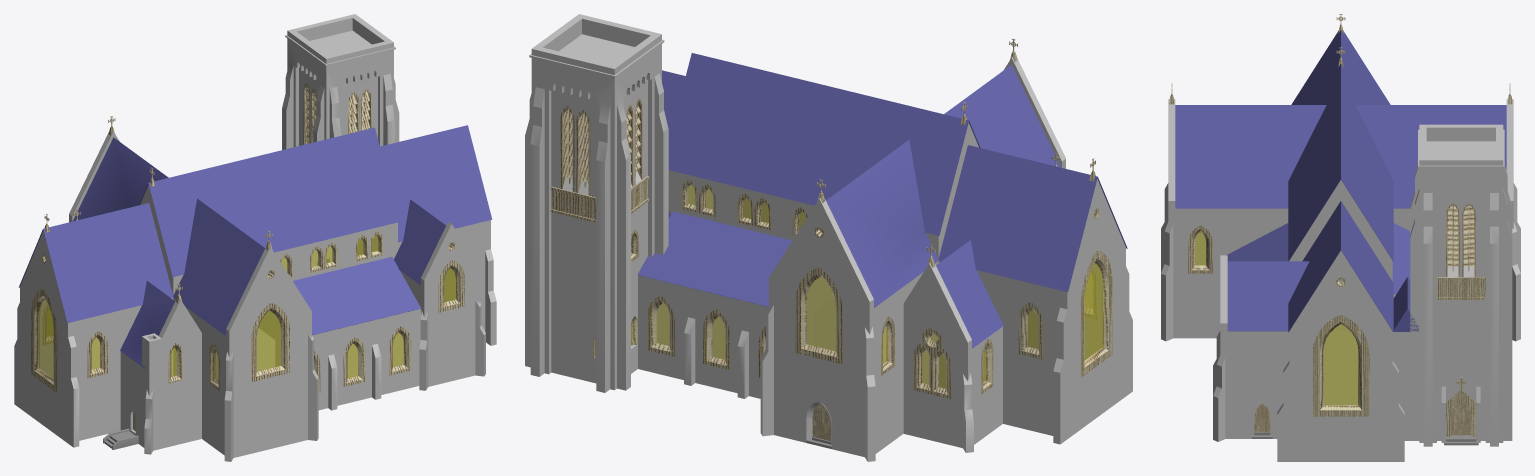
Rendered from Church.FBX.
3 renders of one model, left to right at view 1: azimuth 30°, elevation 25°; view 2: azimuth 150°, elevation 25°; view 3: azimuth 270°, elevation 25°, orthographic. The views are drawn at different scales.
Visible parts, largest first — view 1: ROOF, WALLS, TOWER, WINDOWS, PANES, FLOOR, MISC; view 2: ROOF, WALLS, TOWER, WINDOWS, PANES, FLOOR, MISC; view 3: ROOF, WALLS, TOWER, WINDOWS, PANES, FLOOR, MISC, DOORS.
Boxes of the visible parts, x1,y1,x2,y2 form: ROOF: (18, 125, 492, 368); WALLS: (14, 131, 496, 461); TOWER: (282, 14, 399, 265); WINDOWS: (31, 83, 464, 393); PANES: (38, 235, 455, 381); FLOOR: (103, 328, 403, 449); MISC: (304, 88, 370, 143); ROOF: (637, 53, 1127, 348); WALLS: (638, 57, 1132, 461); TOWER: (525, 14, 668, 392); WINDOWS: (550, 98, 1112, 399); PANES: (595, 184, 1102, 388); FLOOR: (658, 298, 885, 448); MISC: (562, 104, 641, 187); ROOF: (1175, 30, 1506, 332); WALLS: (1161, 99, 1520, 461); TOWER: (1410, 124, 1512, 446); WINDOWS: (1188, 203, 1485, 436); PANES: (1195, 231, 1358, 405); FLOOR: (1252, 294, 1478, 445); MISC: (1447, 205, 1474, 271); DOORS: (1254, 401, 1471, 435).
Size of the model in its own units: 4387 by 2591 by 2991.
